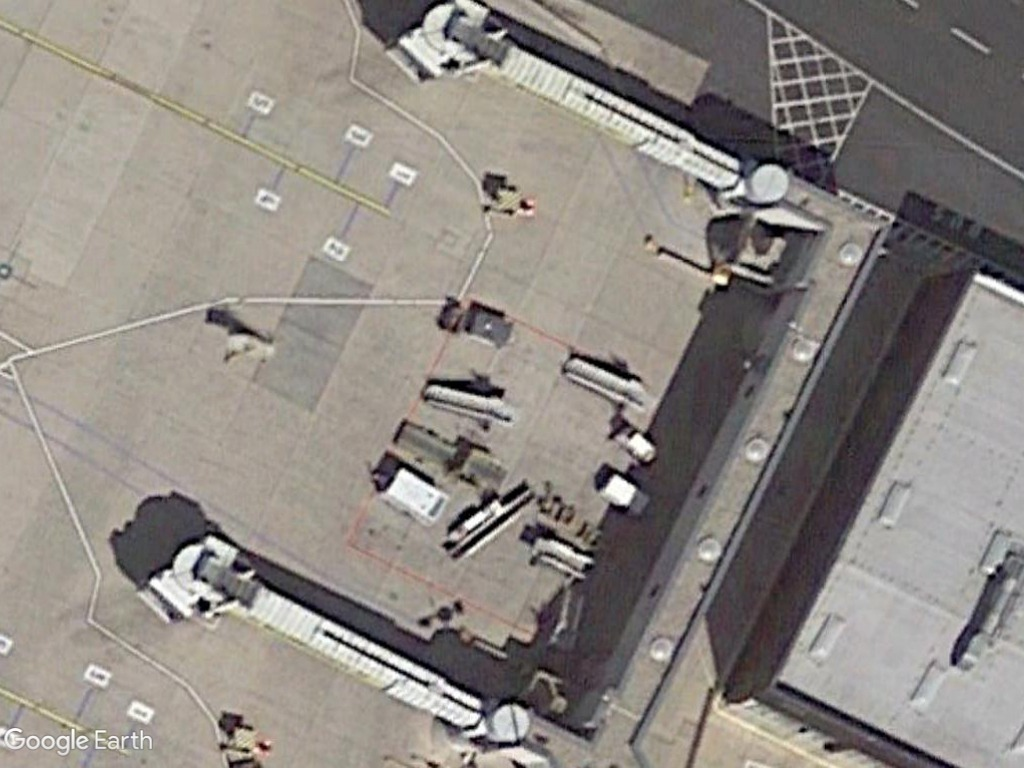stairtruck: (419, 374, 518, 441), (561, 351, 651, 415)
